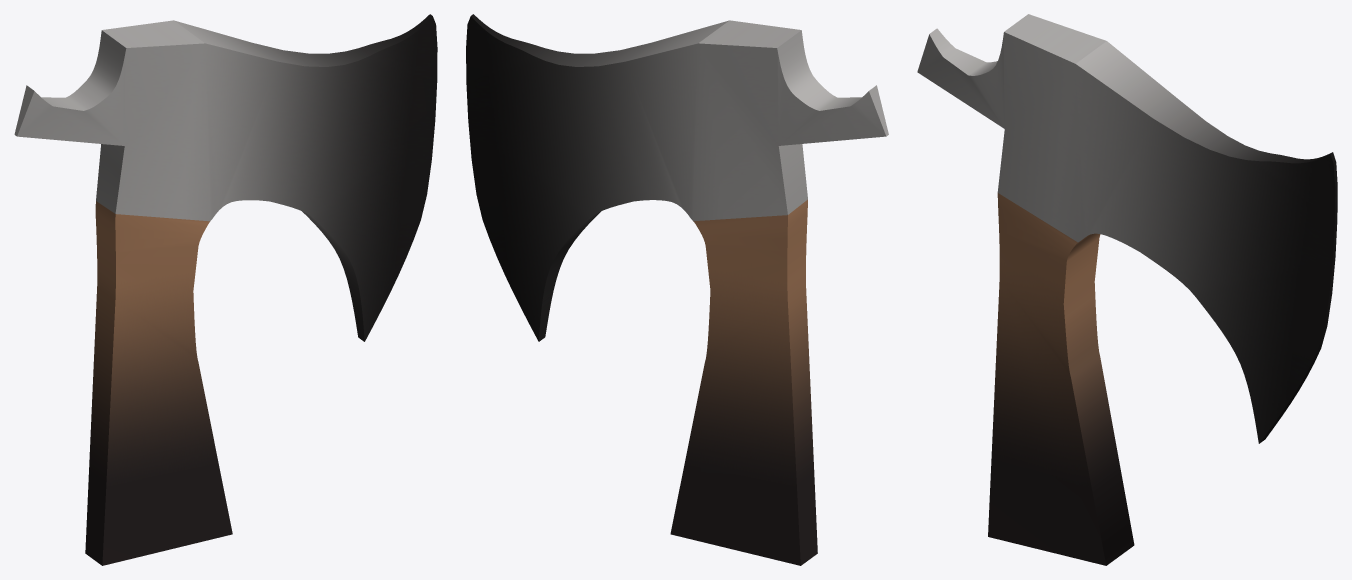
Rendered from Axe_Master.FBX.
3 renders of one model, left to right at view 1: azimuth 30°, elevation 25°; view 2: azimuth 150°, elevation 25°; view 3: azimuth 330°, elevation 25°, orthographic.
Parts seen in each view (by area): view 1: Axe; view 2: Axe; view 3: Axe.
Part boxes in pixels (bbox=[...]): Axe: bbox=[14, 14, 437, 565]; Axe: bbox=[466, 14, 888, 565]; Axe: bbox=[917, 14, 1337, 565].
Bounding box in the file's own units: 10.17 × 11.92 × 1.43.
1 material, 1 textured.
